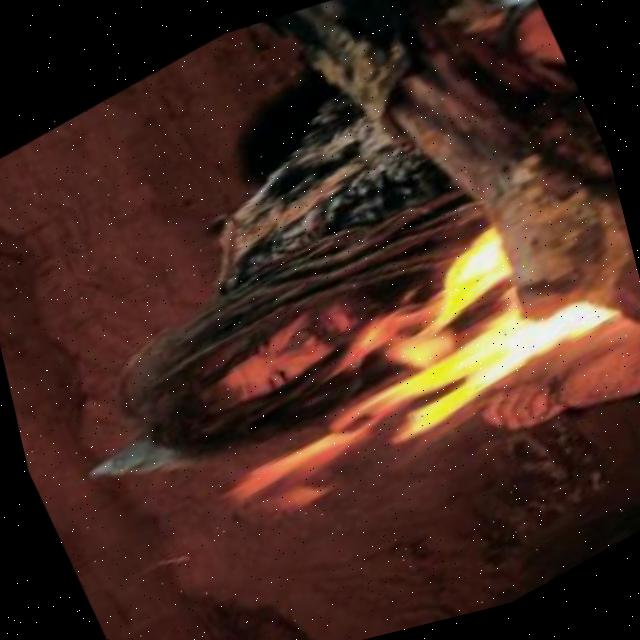fire: (182, 207, 614, 539)
